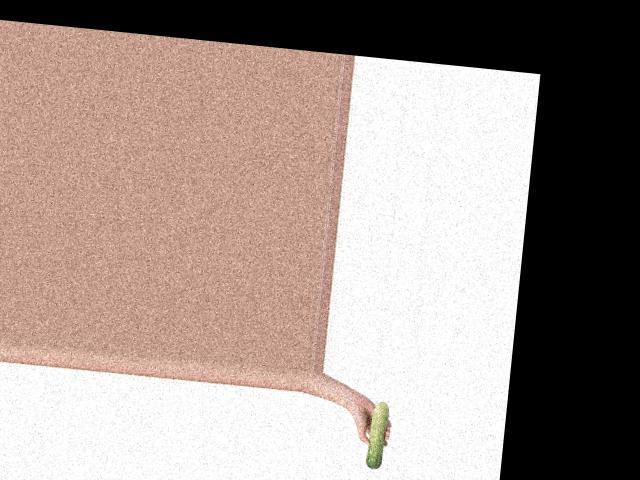cucumber: (364, 400, 389, 470)
